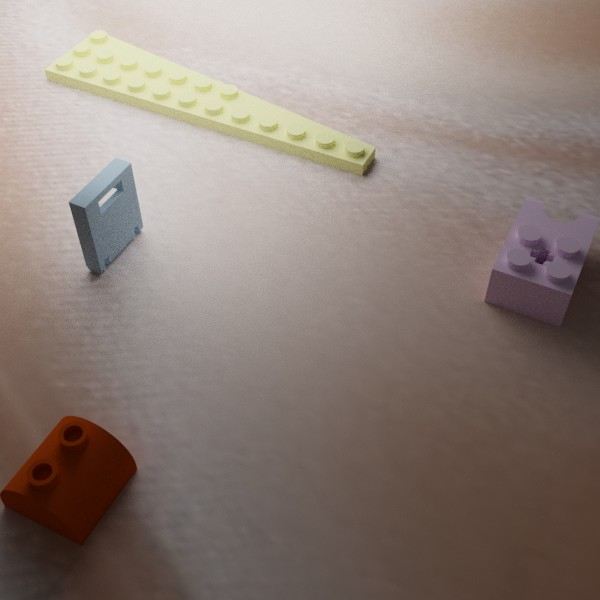lego: (44, 30, 375, 175), (0, 415, 137, 545), (484, 196, 600, 327), (68, 157, 143, 273)
